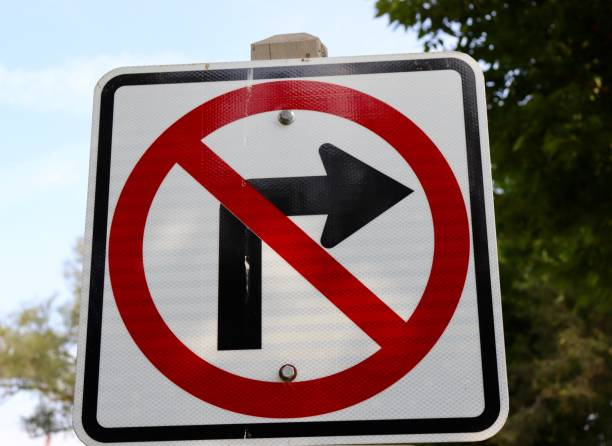saga_donulmez: (102, 83, 468, 415)
